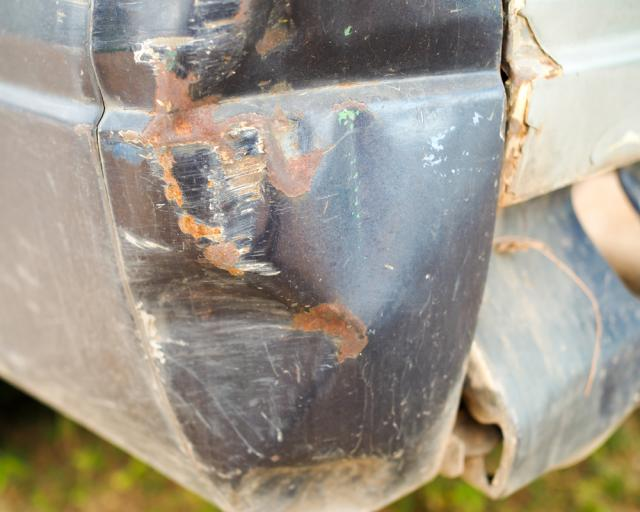dent: (146, 105, 410, 464)
scratch: (139, 0, 316, 263)
